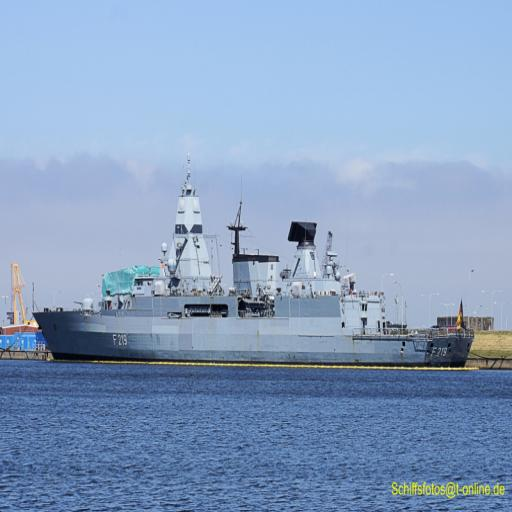Fragata: (31, 172, 477, 368)
